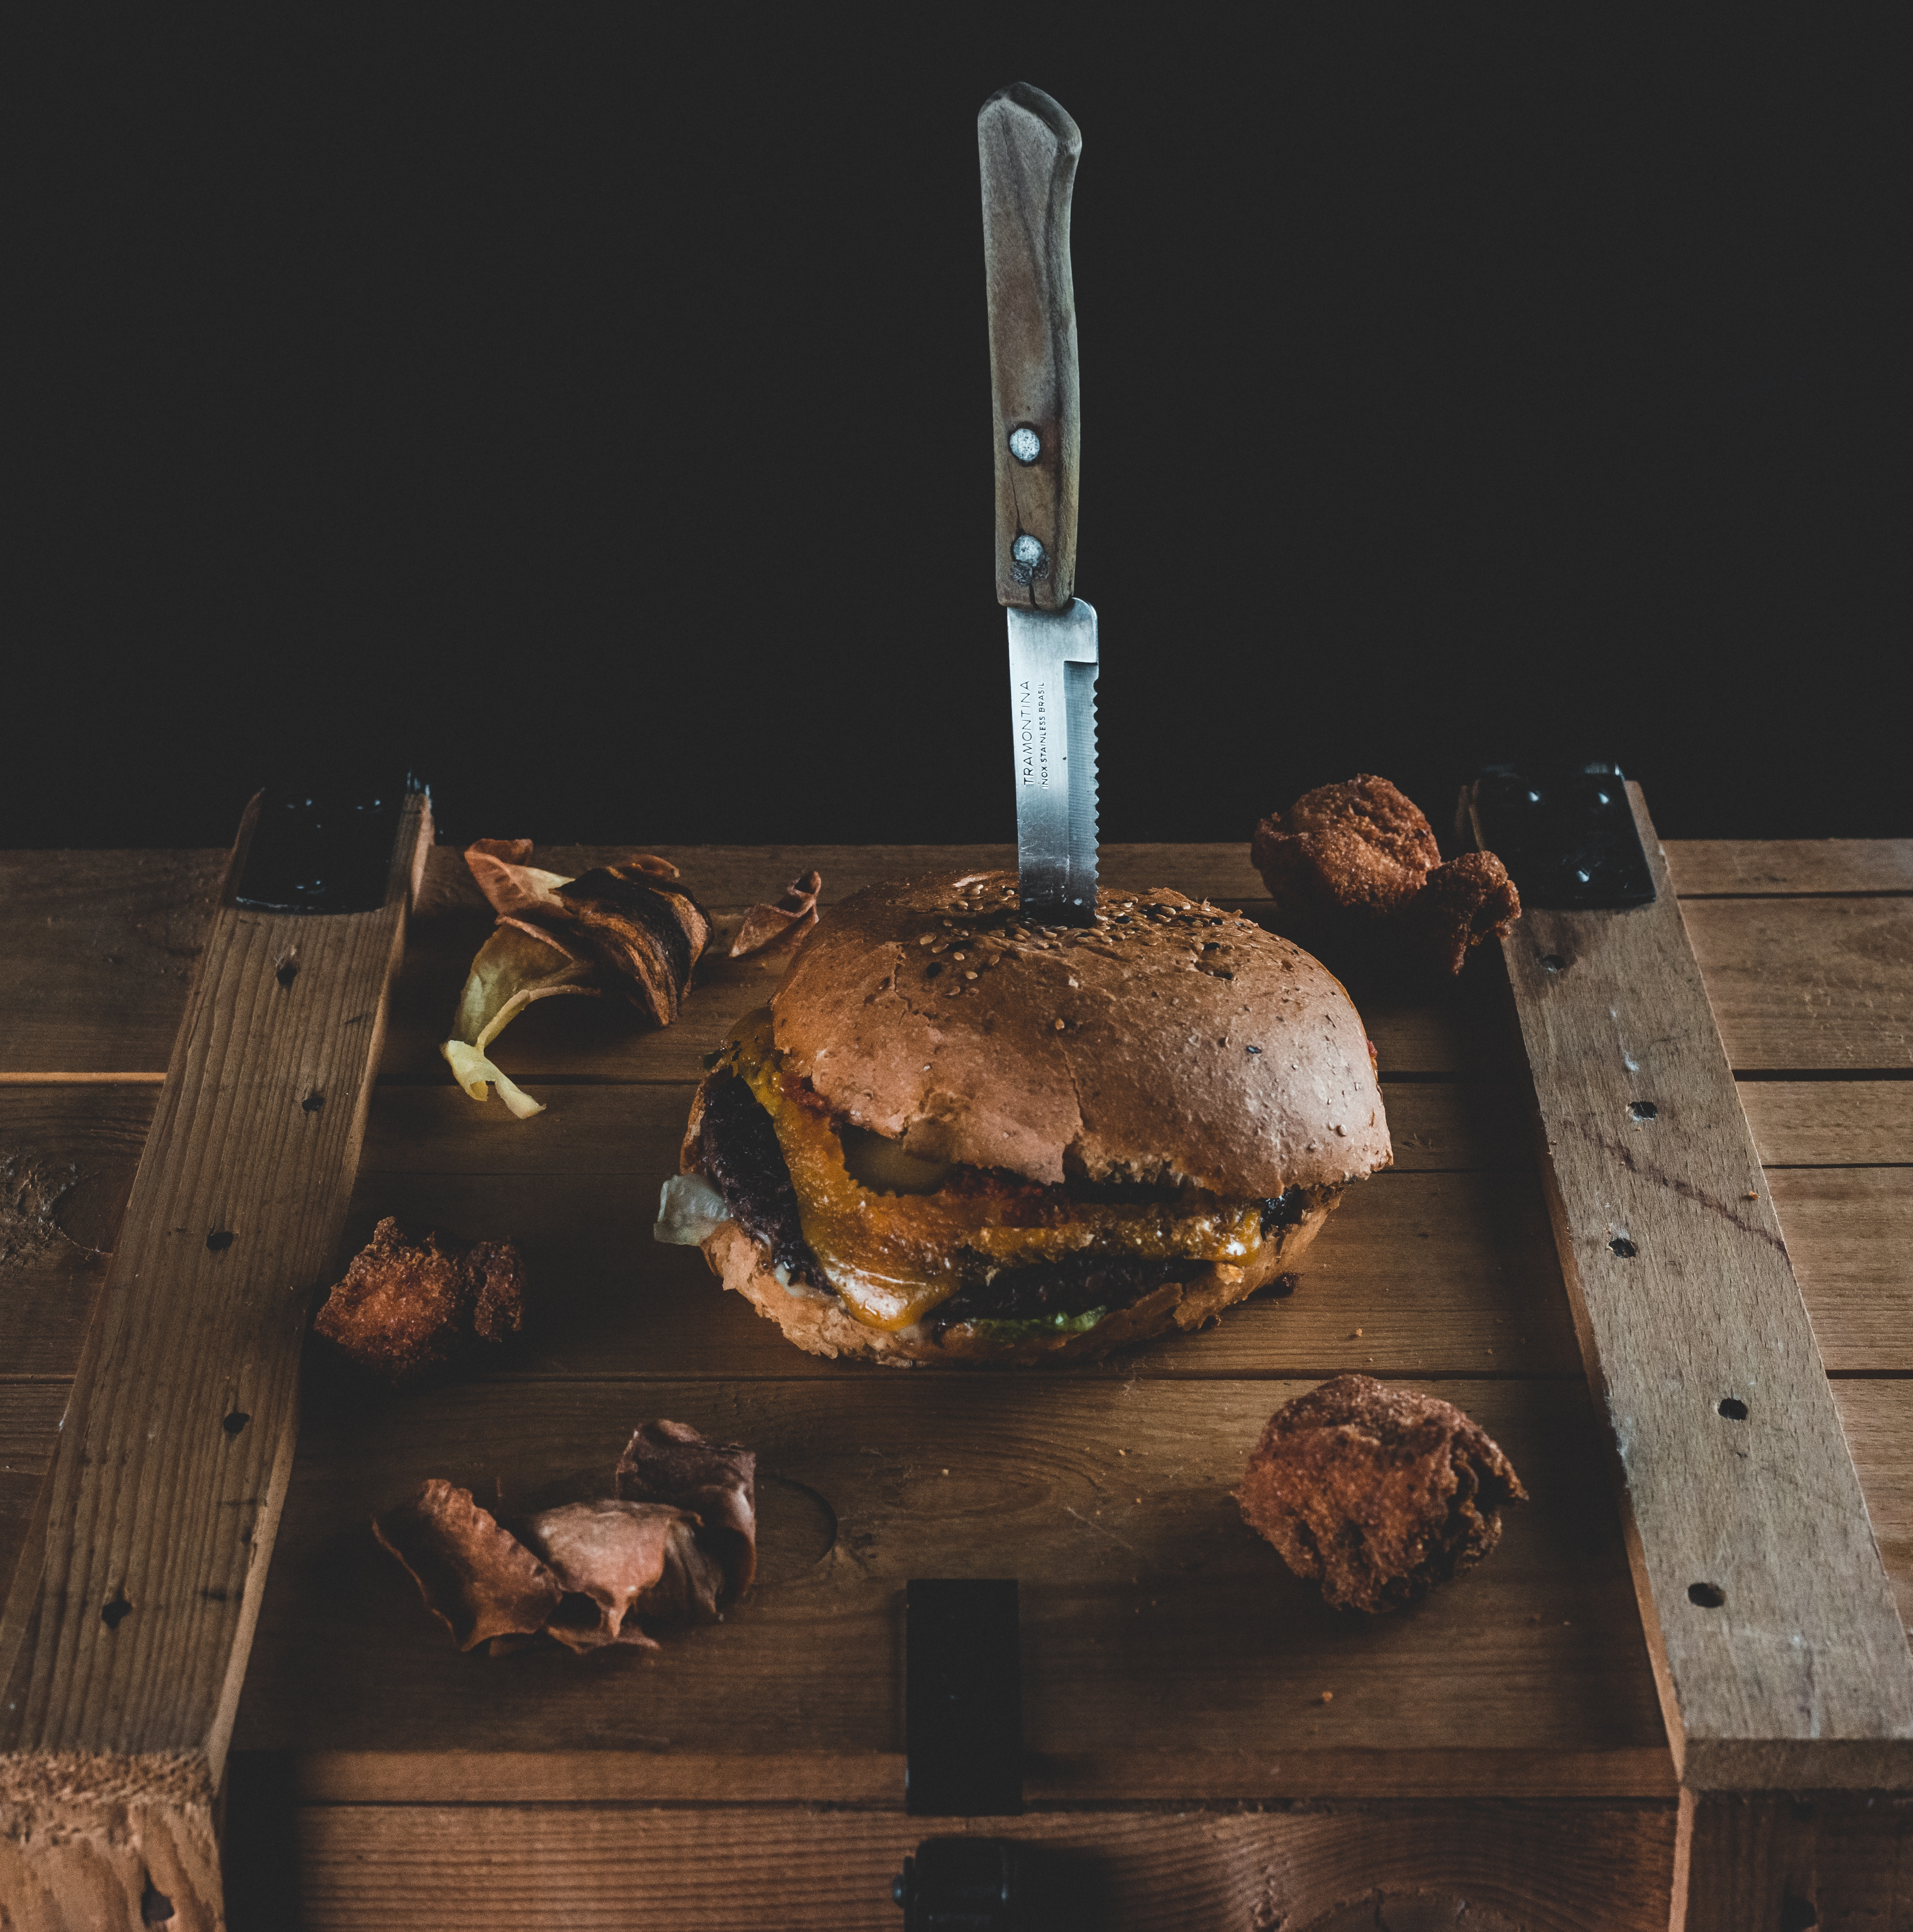knife: (925, 56, 1189, 934)
